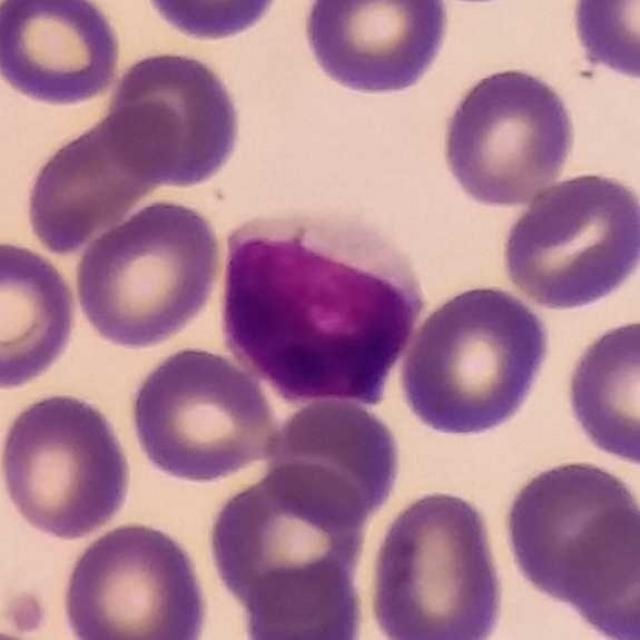Lymphocyte: (216, 194, 424, 405)
Platelets: (0, 591, 65, 636)
RBC: (204, 458, 372, 619), (395, 279, 556, 442), (71, 196, 225, 351), (19, 105, 171, 257), (364, 485, 510, 640), (127, 343, 278, 485), (500, 455, 640, 607), (437, 62, 580, 210), (0, 387, 136, 542), (497, 167, 640, 313), (104, 46, 244, 189), (261, 392, 405, 528), (57, 517, 212, 640), (298, 0, 454, 100), (0, 0, 125, 108), (0, 235, 81, 393), (561, 314, 640, 470), (560, 500, 640, 640), (236, 558, 371, 639), (138, 0, 286, 45), (105, 99, 186, 181), (566, 0, 640, 85)
